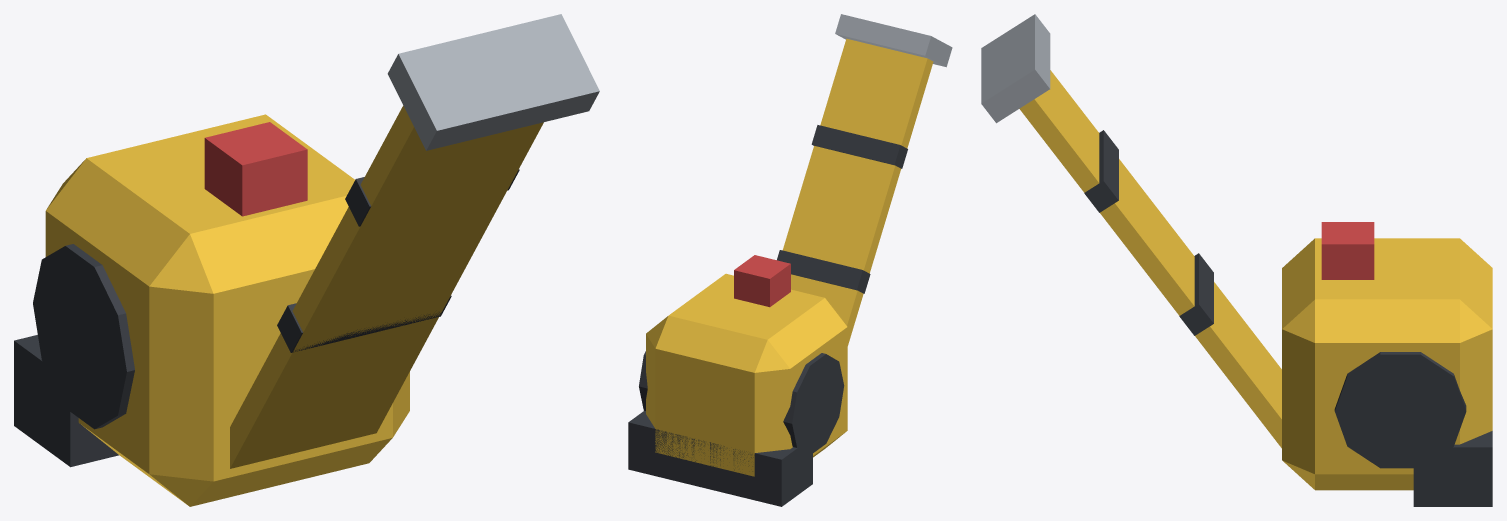
Rendered from thumbtacks_m2_1.glb.
3 views of the same model, side by side, from view 1: azimuth 30°, elevation 25°; view 2: azimuth 150°, elevation 25°; view 3: azimuth 270°, elevation 25° (orthographic). The views are drawn at different scales.
Visible parts, largest first — view 1: thumbtacks_m2_1_mesh; view 2: thumbtacks_m2_1_mesh; view 3: thumbtacks_m2_1_mesh.
Boxes of the visible parts, x1,y1,x2,y2 form: thumbtacks_m2_1_mesh: [14, 14, 599, 506]; thumbtacks_m2_1_mesh: [628, 14, 952, 506]; thumbtacks_m2_1_mesh: [981, 14, 1492, 506].
Size of the model in its own units: 0.17 by 0.3503 by 0.3886.
